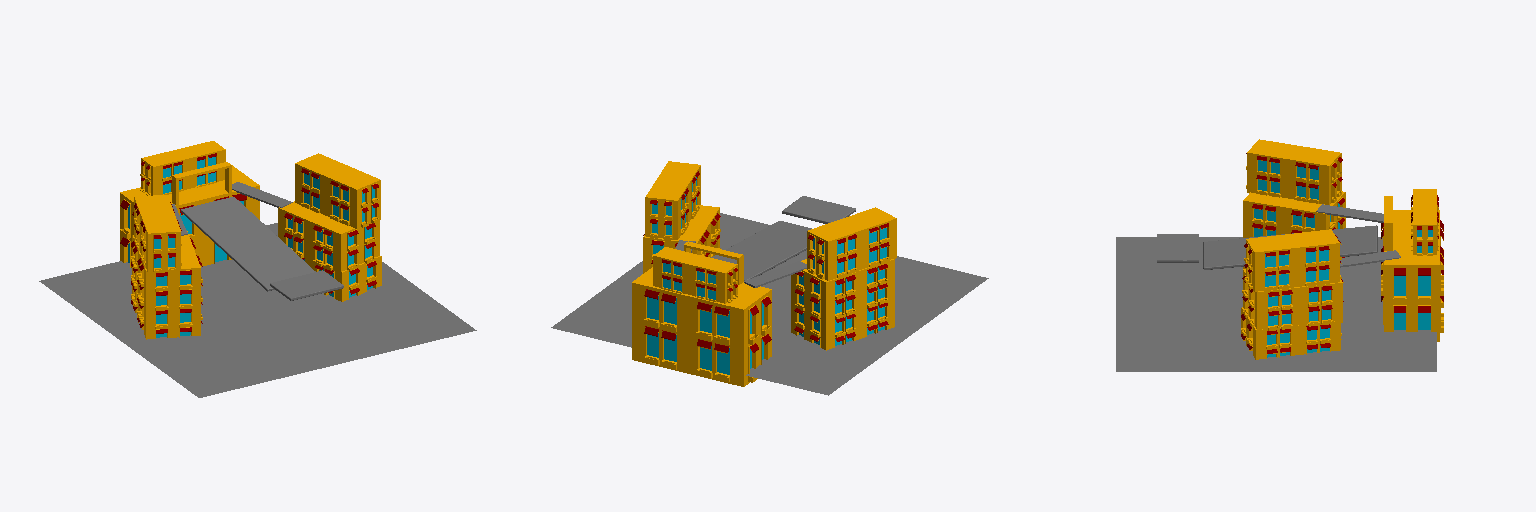
3 views of the same model, side by side, from view 1: azimuth 30°, elevation 25°; view 2: azimuth 150°, elevation 25°; view 3: azimuth 270°, elevation 25° (orthographic).
Visible parts, largest first — view 1: pPlane1, pCube1, pCube4, pCube3, building1:pCube1, building:pCube1, pCube2, pCube5, pCube8, pCube7, pCube6, pCube10; view 2: pPlane1, building1:pCube1, pCube2, building:pCube1, pCube4, pCube5, pCube8, pCube1, pCube3, pCube6, pCube9; view 3: pPlane1, building1:pCube1, pCube2, pCube4, pCube3, building:pCube1, pCube7, pCube1, pCube5, pCube6, pCube9, pCube10.
Part boxes in pixels (left/top/right/bottom): pPlane1: left=39, top=223, right=476, bottom=397; pCube1: left=181, top=197, right=315, bottom=291; pCube4: left=295, top=153, right=380, bottom=229; pCube3: left=278, top=201, right=379, bottom=273; building1:pCube1: left=120, top=162, right=259, bottom=267; building:pCube1: left=131, top=231, right=202, bottom=310; pCube2: left=134, top=195, right=181, bottom=273; pCube5: left=140, top=141, right=225, bottom=195; pCube8: left=131, top=273, right=202, bottom=339; pCube7: left=302, top=256, right=381, bottom=301; pCube6: left=270, top=270, right=343, bottom=300; pCube10: left=232, top=182, right=292, bottom=207; pPlane1: left=551, top=213, right=988, bottom=395; building1:pCube1: left=632, top=241, right=771, bottom=386; pCube2: left=807, top=207, right=896, bottom=280; building:pCube1: left=791, top=259, right=894, bottom=321; pCube4: left=645, top=161, right=700, bottom=239; pCube5: left=653, top=247, right=737, bottom=303; pCube8: left=791, top=297, right=894, bottom=350; pCube1: left=711, top=221, right=811, bottom=280; pCube3: left=643, top=205, right=720, bottom=273; pCube6: left=782, top=196, right=855, bottom=223; pCube9: left=744, top=261, right=806, bottom=287; pPlane1: left=1116, top=237, right=1436, bottom=371; building1:pCube1: left=1381, top=196, right=1443, bottom=341; pCube2: left=1246, top=139, right=1342, bottom=204; pCube4: left=1244, top=229, right=1341, bottom=291; pCube3: left=1242, top=269, right=1343, bottom=330; building:pCube1: left=1243, top=191, right=1345, bottom=237; pCube7: left=1241, top=307, right=1341, bottom=359; pCube1: left=1203, top=225, right=1377, bottom=269; pCube5: left=1411, top=189, right=1438, bottom=255; pCube6: left=1157, top=234, right=1198, bottom=262; pCube9: left=1316, top=204, right=1383, bottom=222; pCube10: left=1340, top=250, right=1400, bottom=267.
Size of the model in its own units: 65.33 by 26.48 by 66.81.
Materials: 3 (1 with a texture image).